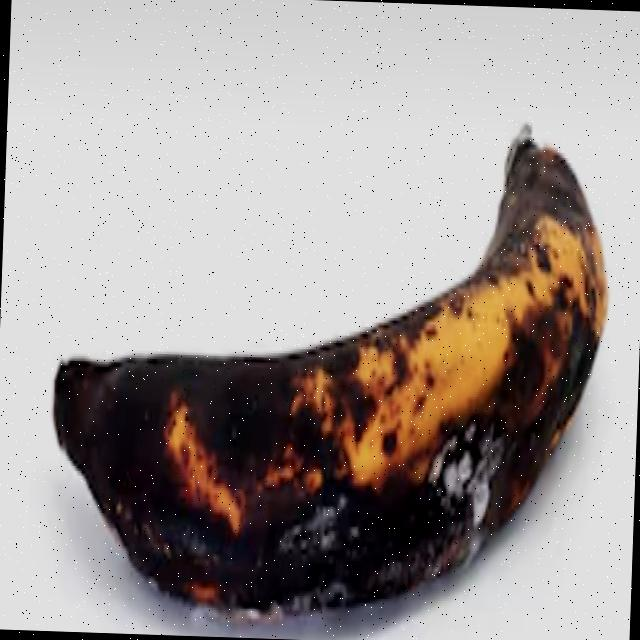Rotten: (26, 63, 637, 640)
